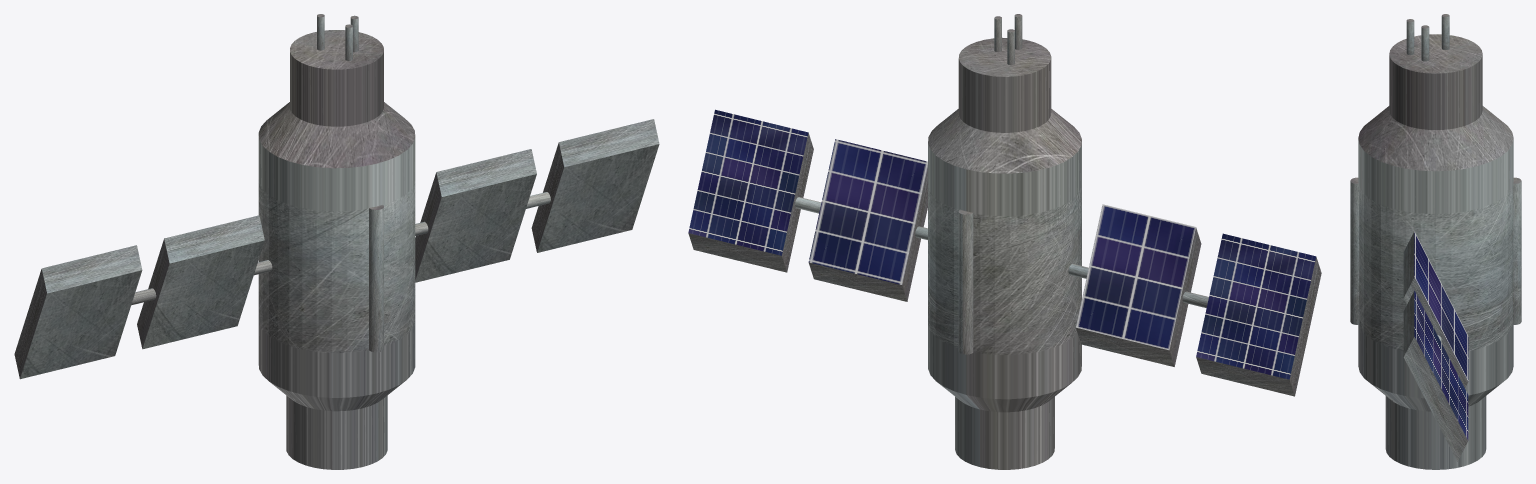
Rendered from satelite.fbx.
3 renders of one model, left to right at view 1: azimuth 30°, elevation 25°; view 2: azimuth 150°, elevation 25°; view 3: azimuth 270°, elevation 25°, orthographic.
Visible parts, largest first — view 1: Cylinder.003; view 2: Cylinder.003; view 3: Cylinder.003.
Part boxes in pixels (x1,y1,x2,y2): Cylinder.003: (14,14,659,469); Cylinder.003: (688,14,1321,469); Cylinder.003: (1350,14,1521,469).
Size of the model in its own units: 900 by 607 by 220.
5 materials, 5 textured.
